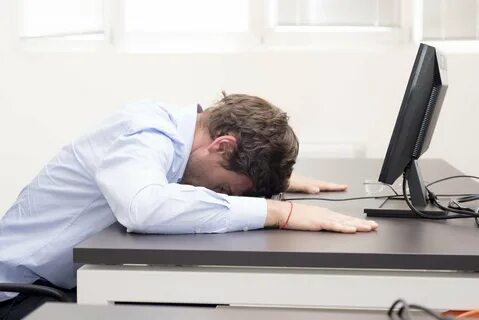sleep: (45, 90, 338, 233)
